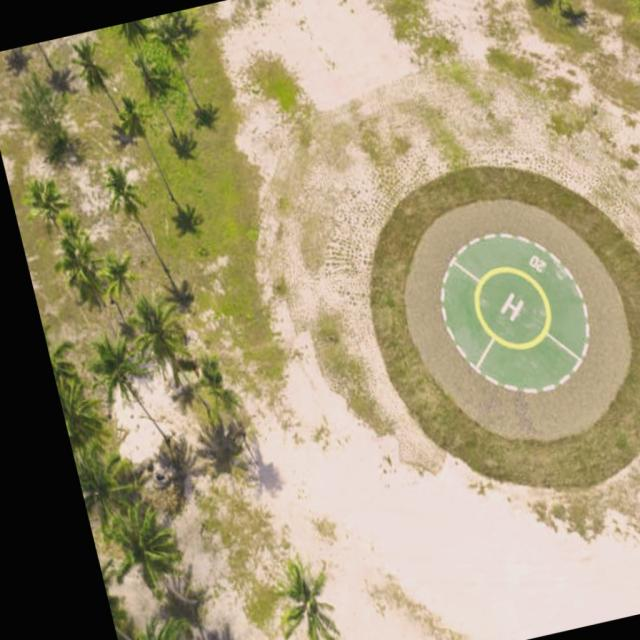helipad: (470, 263, 552, 351)
